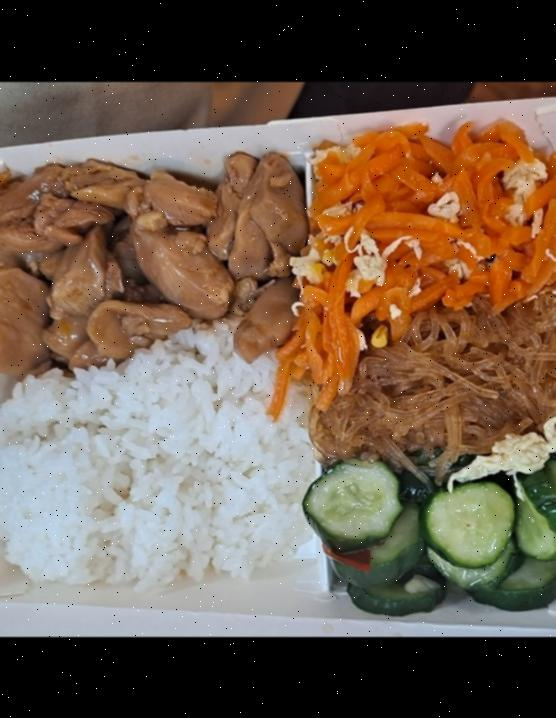box: (0, 90, 556, 637)
side dish: (266, 123, 556, 413), (298, 453, 556, 621), (313, 301, 556, 469)
three cup chicken: (0, 146, 305, 373)
white rice: (0, 326, 315, 589)
